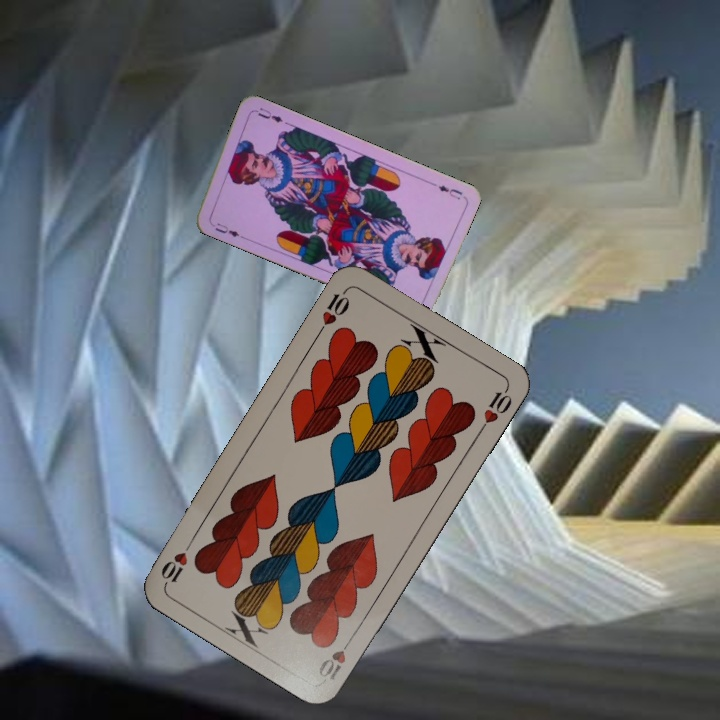EU: (206, 217, 244, 239), (434, 181, 465, 202)
H10: (314, 631, 356, 683), (313, 285, 353, 339)
